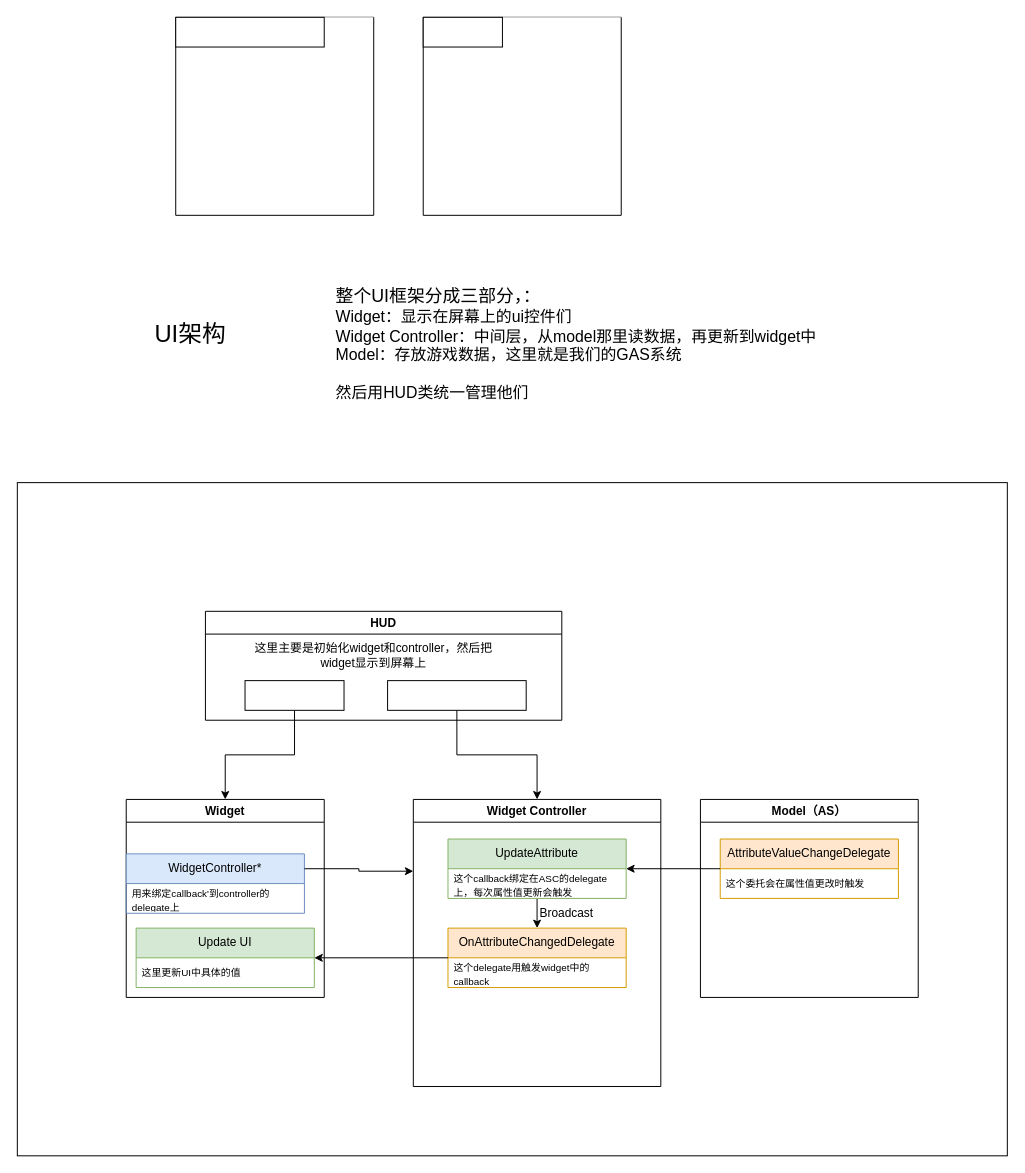
This 1025x1173 diagram has some shape labels left out. The shapes that lost their labels are listed below. From the top down, each one's centre as x and y in pixels, then its label:
point (249, 31): AbilitySystemComponent
point (462, 31): AttributeSet
point (294, 695): OverlayWidget*
point (456, 695): OverlayWidgetController*
